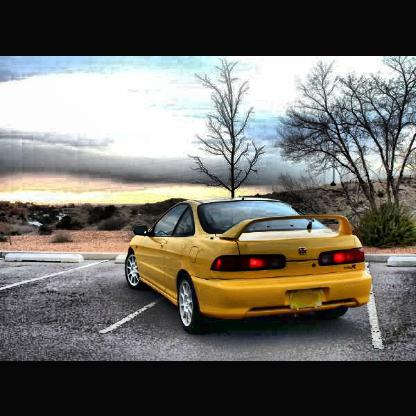Acura Integra Type R 2001: (125, 198, 373, 333)
